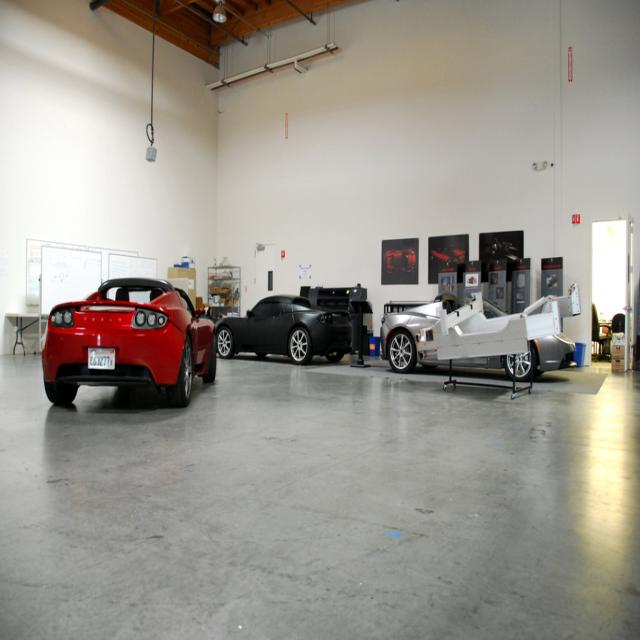car: (40, 271, 221, 419), (374, 280, 590, 396), (211, 282, 360, 378)
